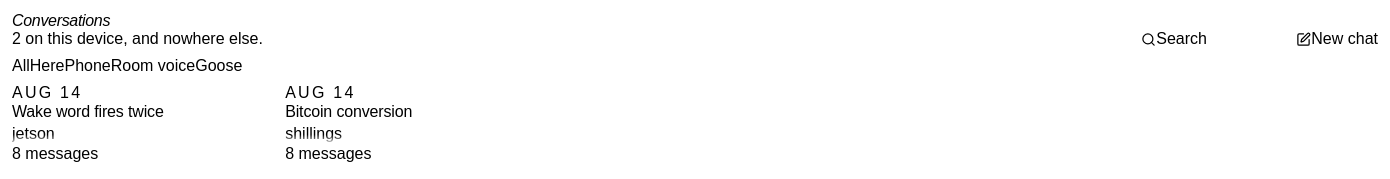
the wall › filters as you search, and says so when nothing matches
Type "bitcoin" into the search field named "Search conversations" at (1226, 39), box x1=1156 y1=30 x2=1296 y2=48
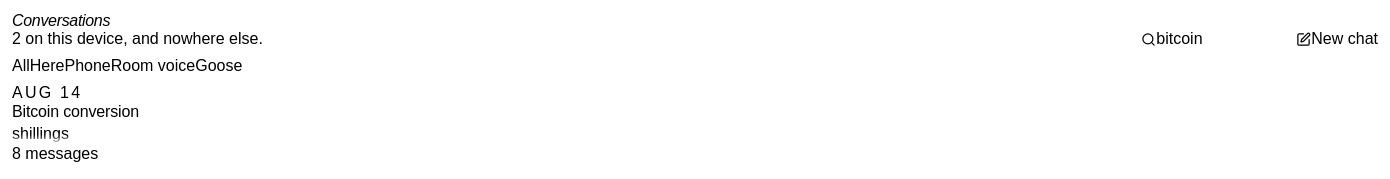
Expected: the heading "Bitcoin conversion" is shown, x1=12 y1=103 x2=139 y2=120
Expected: the number of buttons with class "chist__card" is 1, x1=12 y1=84 x2=139 y2=162
Replace the text in the search field named "Search conversations" with "zzz" at (1226, 39), box x1=1156 y1=30 x2=1296 y2=48
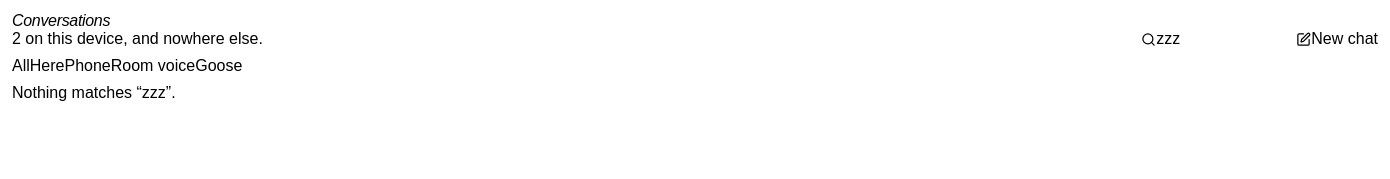
Expected: no buttons with class "chist__card" are shown
Expected: the text "Nothing matches “zzz”." is shown, x1=12 y1=84 x2=176 y2=101
